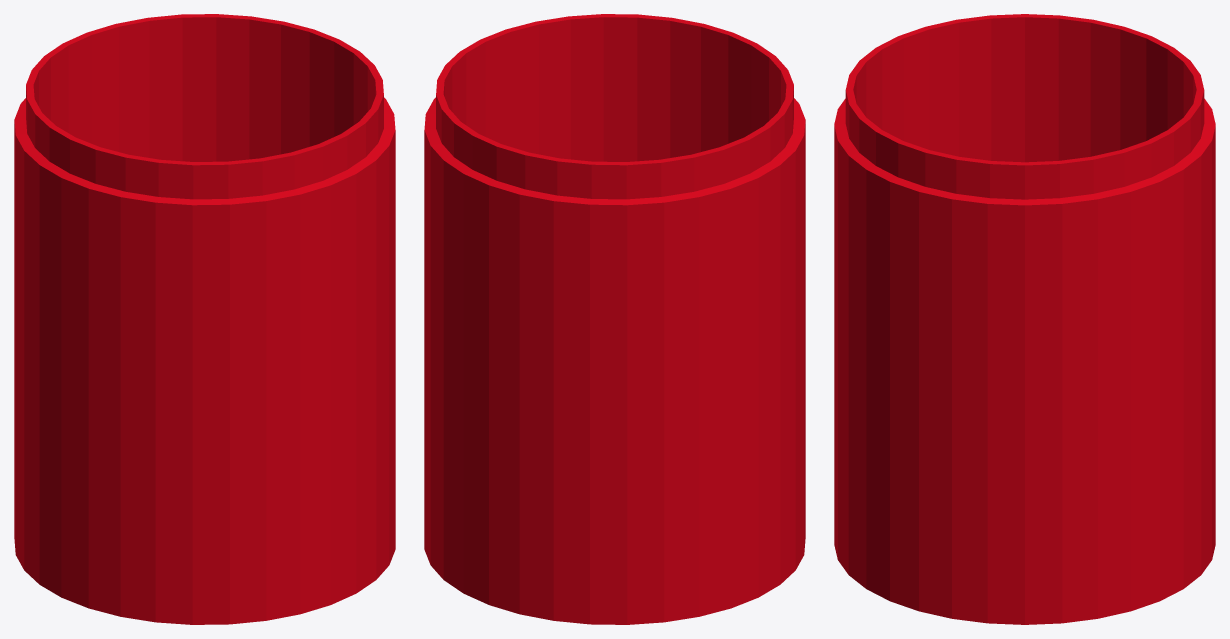
The model's file is ConnectorPiece.fbx.
3 renders of one model, left to right at view 1: azimuth 30°, elevation 25°; view 2: azimuth 150°, elevation 25°; view 3: azimuth 270°, elevation 25°, orthographic.
Visible parts, largest first — view 1: Cylinder; view 2: Cylinder; view 3: Cylinder.
Part boxes in pixels (x1=…): Cylinder: x1=14, y1=14, x2=395, y2=624; Cylinder: x1=424, y1=14, x2=805, y2=624; Cylinder: x1=834, y1=14, x2=1215, y2=624.
Size of the model in its own units: 200 by 263 by 200.
